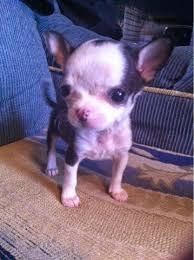chihuahua: (11, 27, 179, 212)
